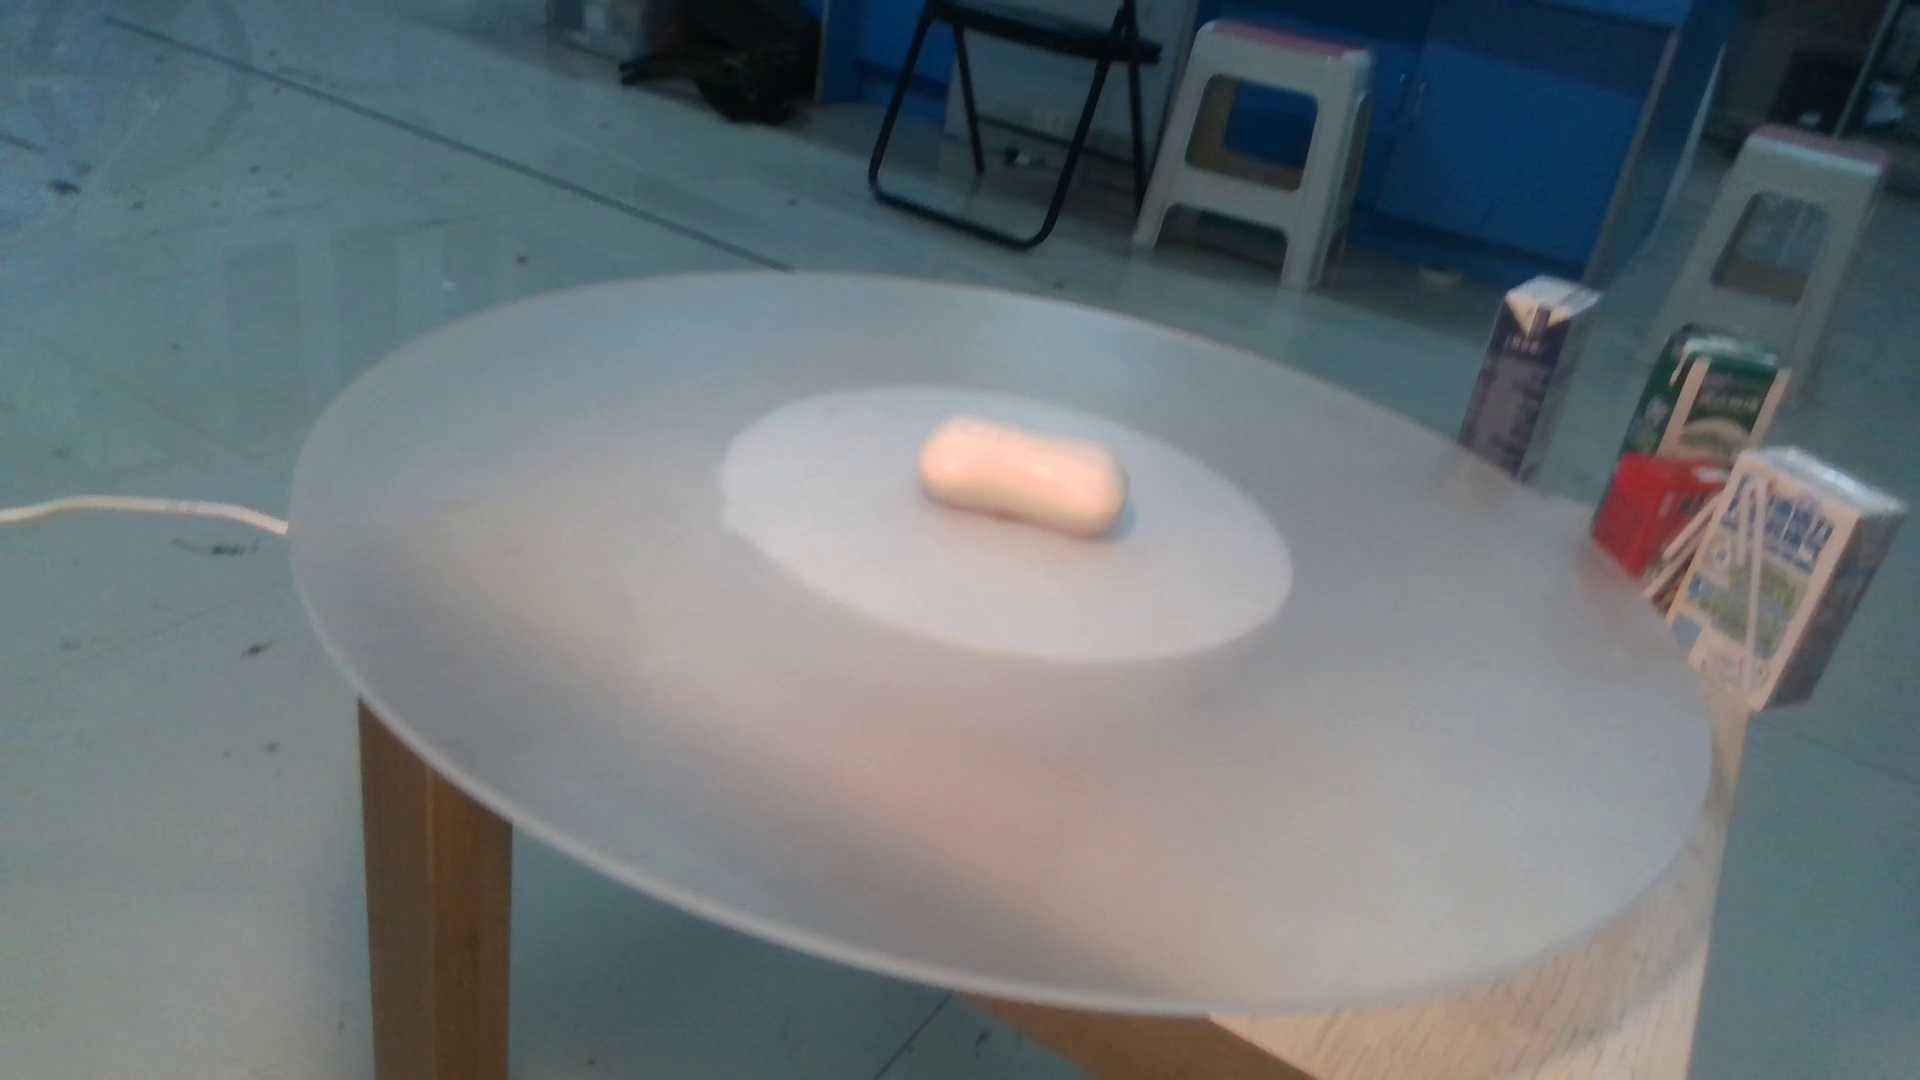CA003_1: (891, 404, 1168, 550)
